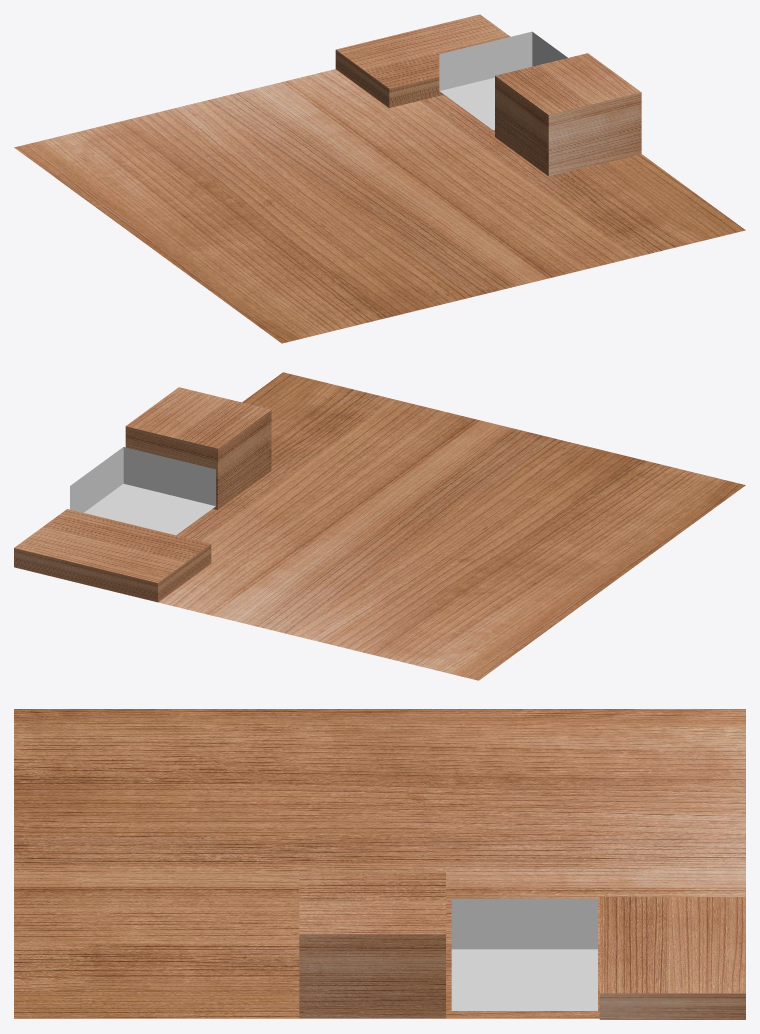
The model's file is test_stairs.gltf.
The picture shows the model from 3 angles, top to bottom: view 1: azimuth 30°, elevation 25°; view 2: azimuth 150°, elevation 25°; view 3: azimuth 270°, elevation 25°; orthographic projection. The views are drawn at different scales.
Visible parts, largest first — view 1: Plane, Cube.002, Cube, Cube.001; view 2: Plane, Cube, Cube.002, Cube.001; view 3: Plane, Cube.002, Cube, Cube.001.
Part boxes in pixels (x1,y1,x2,y2): Plane: [14, 69, 745, 343]; Cube.002: [495, 53, 641, 176]; Cube: [335, 14, 510, 107]; Cube.001: [439, 31, 567, 130]; Plane: [158, 372, 745, 680]; Cube: [14, 509, 211, 602]; Cube.002: [125, 387, 271, 509]; Cube.001: [70, 447, 215, 535]; Plane: [14, 709, 745, 1018]; Cube.002: [299, 872, 445, 1018]; Cube: [599, 897, 745, 1019]; Cube.001: [451, 898, 597, 1010].
Bounding box in the file's own units: 10.04 × 1.27 × 10.
1 material, 1 textured.
